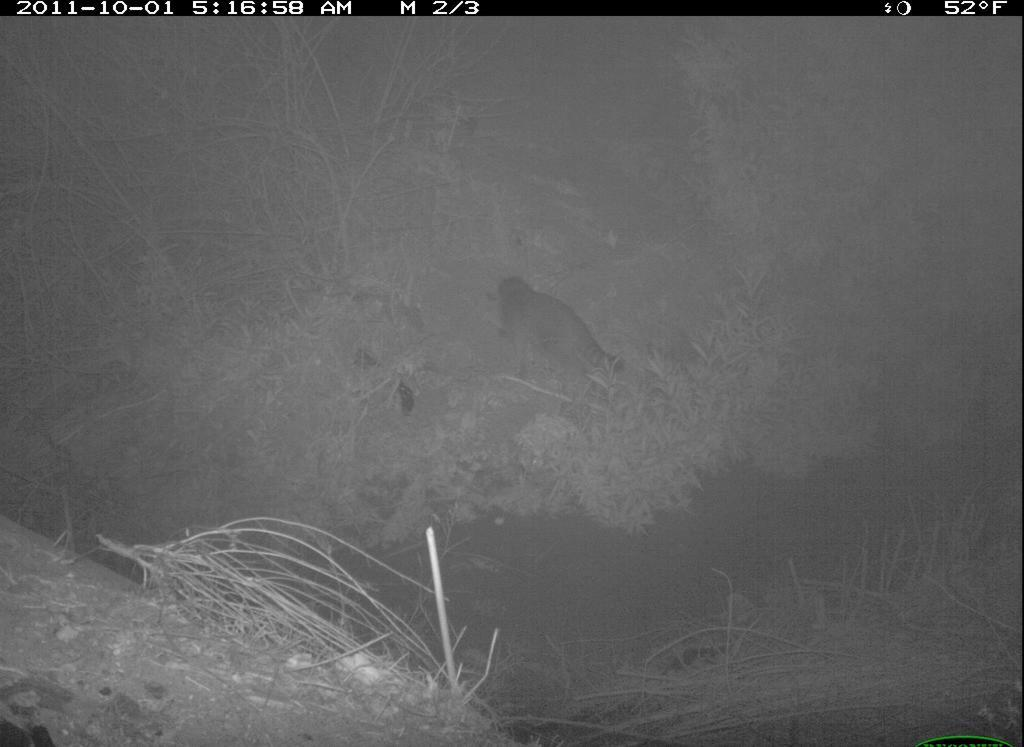raccoon: (472, 268, 637, 401)
